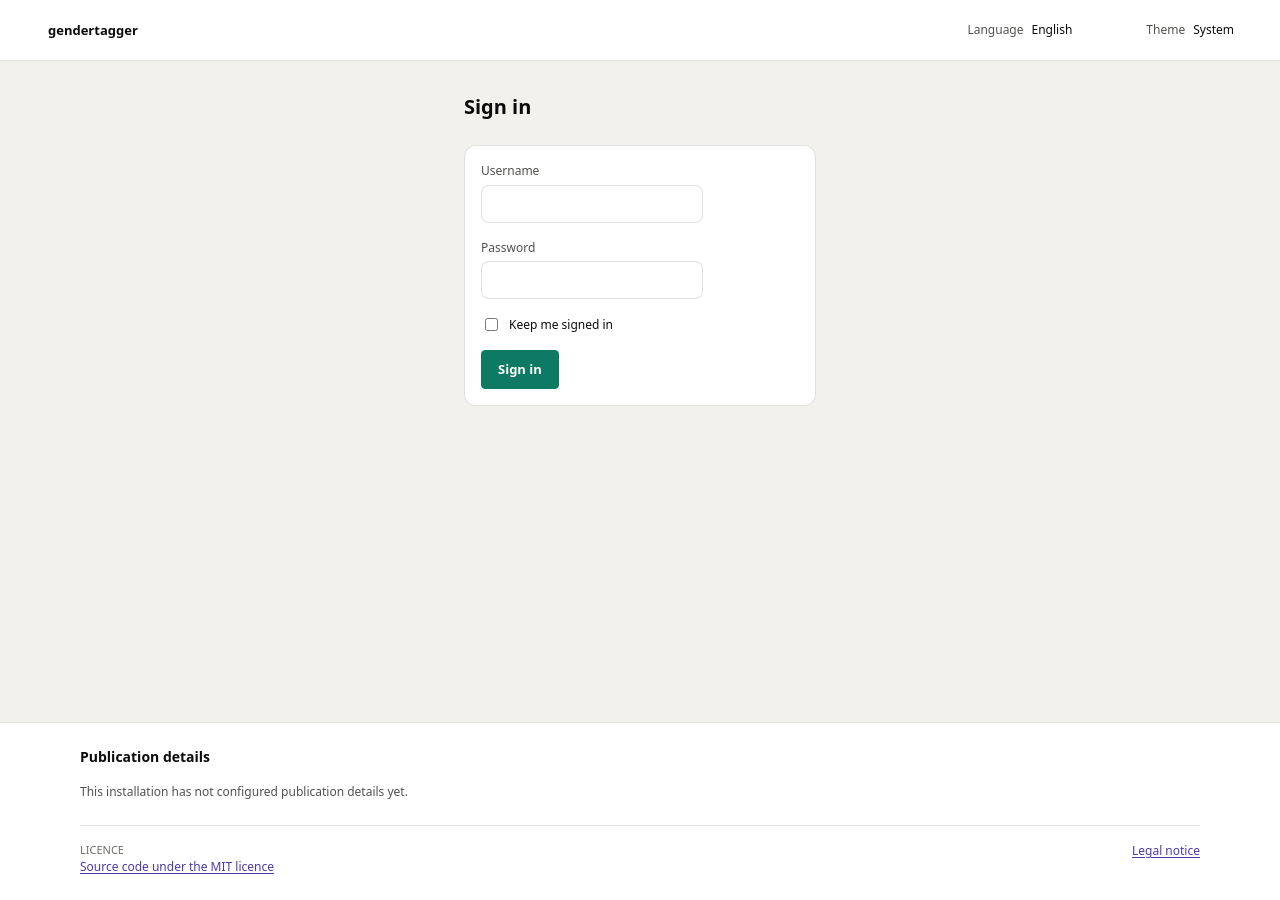
Test: application shell in en › restores private navigation after a successful sign-in without duplicating presentation controls
In the field with id "login-username": (592, 204) [481,185,703,223], type "reviewer"
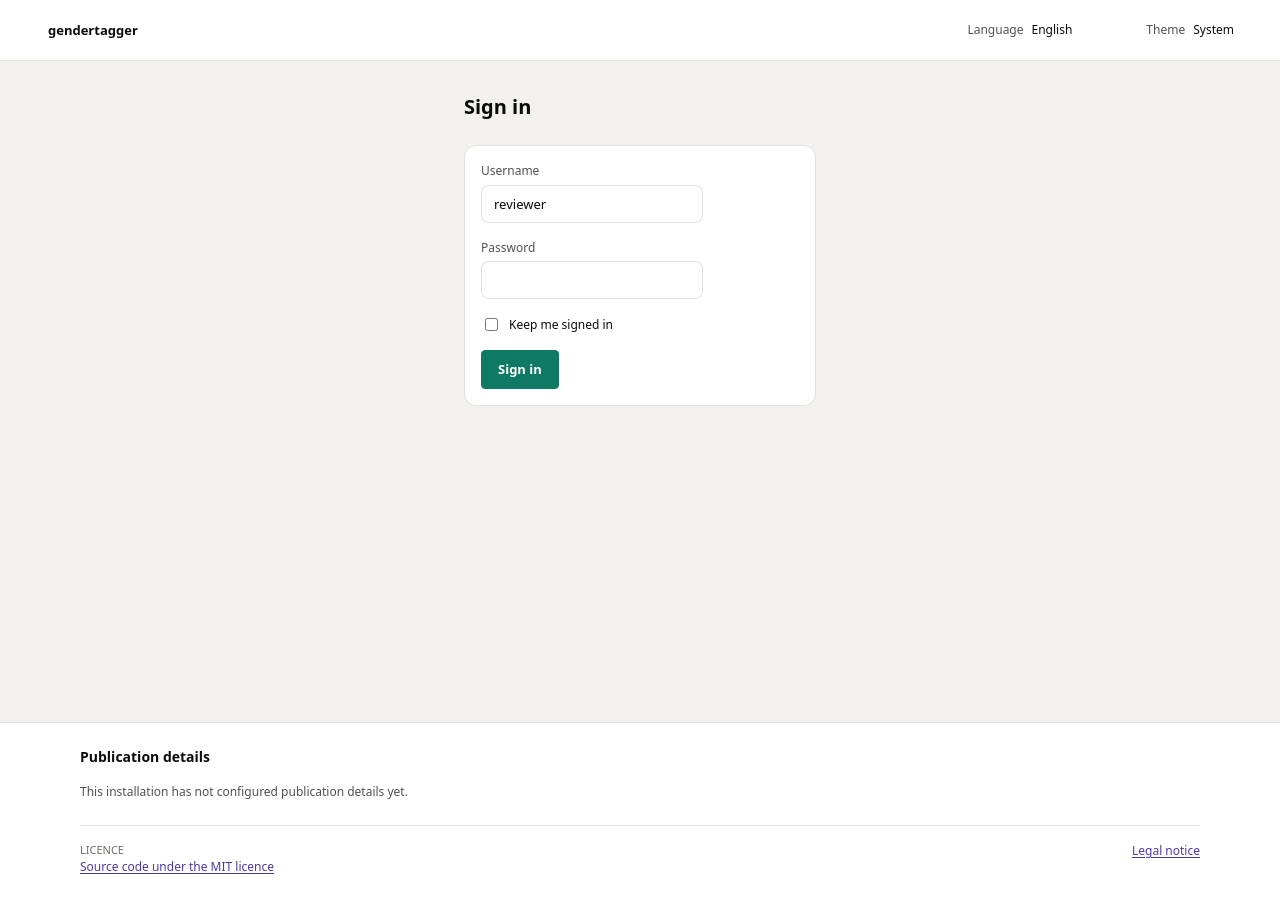
In the password field with id "login-password": (592, 280) [481,261,703,299], type "correct-password"
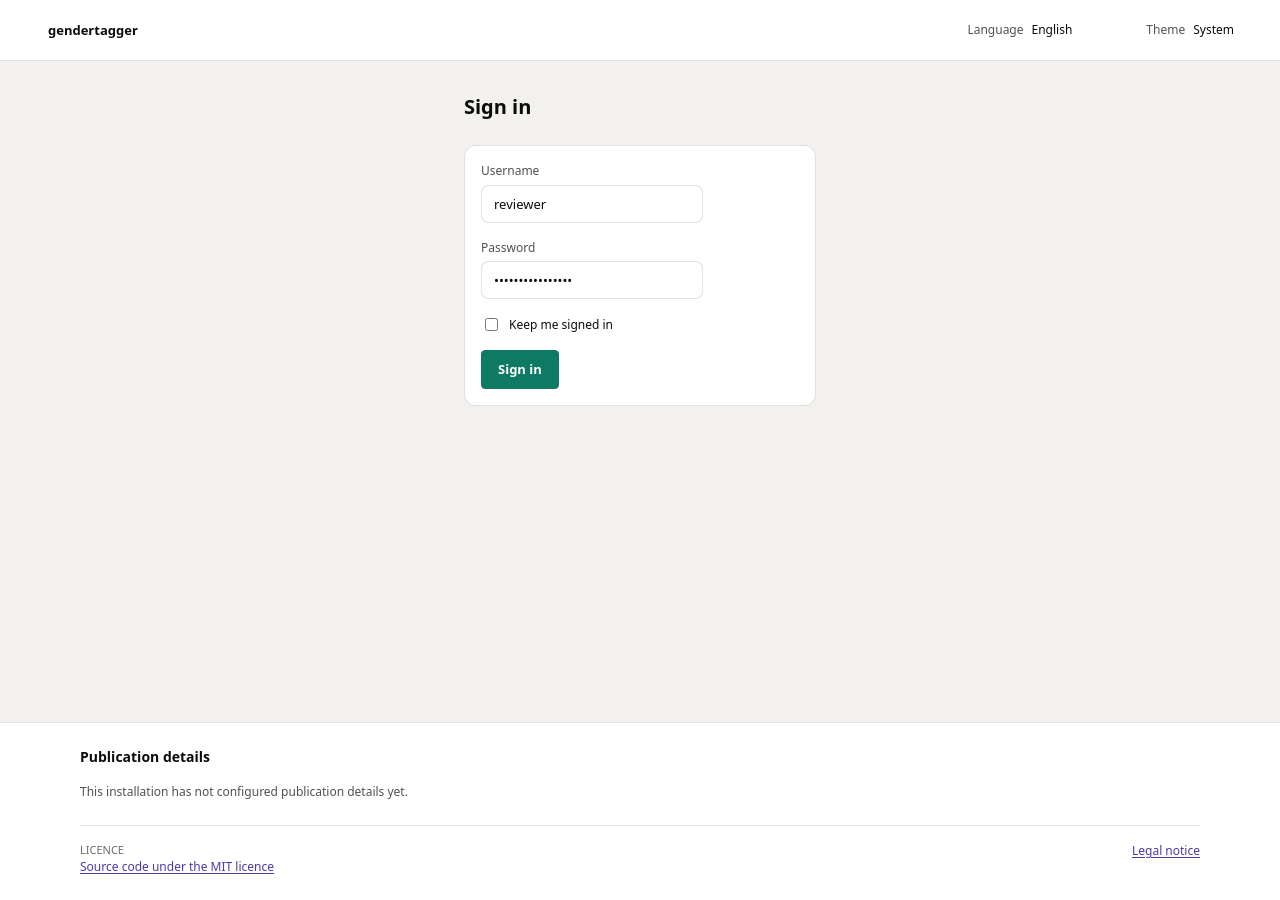
Submit the form with class "login-form", box [464,145,816,406]
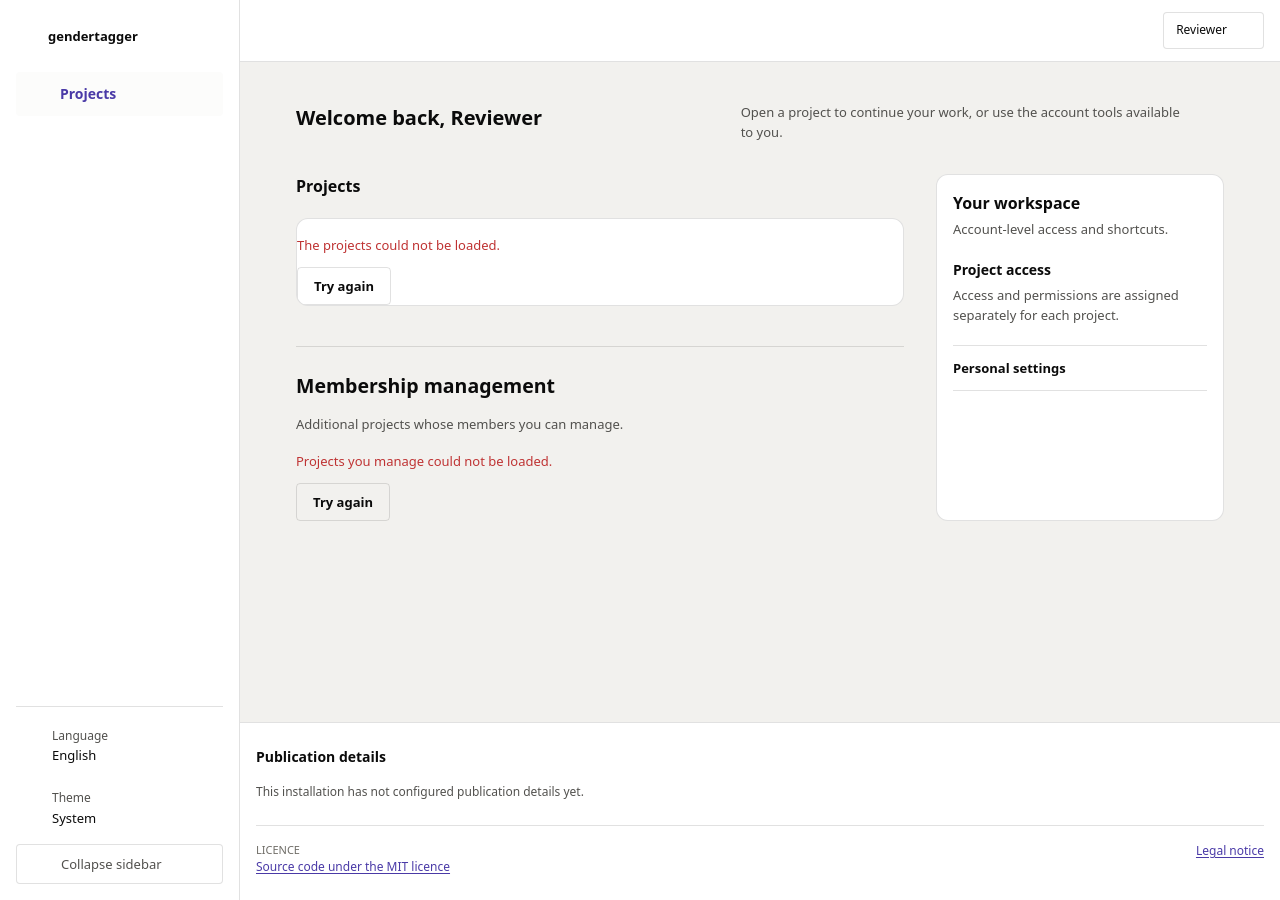
Check: the element that starts with "gendertagger" is shown, box [0,0,240,899]
Check: the link to "/" reads "Projects", box [16,72,223,116]
Check: the button with class "account-menu-button" reads "Reviewer", box [1163,12,1264,49]
